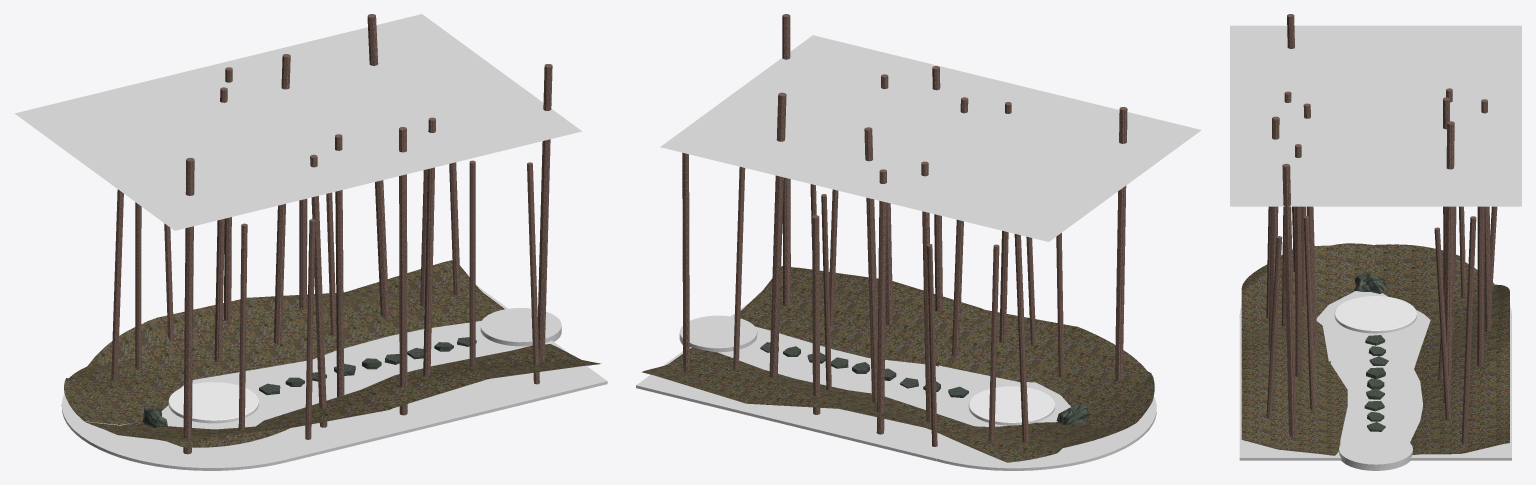
The model's file is forest12_ex.glb.
3 views of the same model, side by side, from view 1: azimuth 30°, elevation 25°; view 2: azimuth 150°, elevation 25°; view 3: azimuth 270°, elevation 25° (orthographic). The views are drawn at different scales.
Parts seen in each view (by area): view 1: Plane, Landscape.1, Cap 2, Cylinder, Cylinder.1 5, Cylinder.1 8, End, Cylinder.1 7, Water, Cylinder.1 16.2, Cylinder.1 2.2, Cylinder.1 6 (+15 smaller); view 2: Plane, Landscape.1, Cap 2, Cylinder, Cylinder.1 22, End, Cylinder.1 5, Cylinder.1 16, Cylinder.1 17, Water, Cylinder.1 18, Cylinder.1 21.1 (+14 smaller); view 3: Plane, Landscape.1, Cap 2, Cylinder, End, Cylinder.1 8, Cylinder.1 22, Cylinder.1 18, Cylinder.1 16.2, Cylinder.1 21.1, Cylinder.1 11.1, Cylinder.1 12 (+13 smaller).
Part boxes in pixels (<box>): Plane: <box>14,14,582,230</box>; Landscape.1: <box>64,260,601,447</box>; Cap 2: <box>62,286,607,467</box>; Cylinder: <box>168,382,258,423</box>; Cylinder.1 5: <box>183,157,194,454</box>; Cylinder.1 8: <box>537,64,552,362</box>; End: <box>480,308,561,346</box>; Cylinder.1 7: <box>399,127,407,415</box>; Water: <box>61,381,607,470</box>; Cylinder.1 16.2: <box>423,117,435,375</box>; Cylinder.1 2.2: <box>310,154,327,427</box>; Cylinder.1 6: <box>335,134,344,397</box>; Plane: <box>660,35,1201,241</box>; Landscape.1: <box>642,266,1154,462</box>; Cap 2: <box>636,301,1156,468</box>; Cylinder: <box>968,386,1054,425</box>; Cylinder.1 22: <box>769,92,786,378</box>; End: <box>679,315,757,352</box>; Cylinder.1 5: <box>1115,107,1127,381</box>; Cylinder.1 16: <box>876,169,886,434</box>; Cylinder.1 17: <box>864,127,877,403</box>; Water: <box>636,385,1156,470</box>; Cylinder.1 18: <box>682,152,689,371</box>; Cylinder.1 21.1: <box>812,215,820,414</box>; Plane: <box>1230,25,1521,206</box>; Landscape.1: <box>1241,243,1509,455</box>; Cap 2: <box>1239,291,1511,457</box>; Cylinder: <box>1334,296,1416,333</box>; End: <box>1339,433,1412,470</box>; Cylinder.1 8: <box>1282,163,1296,437</box>; Cylinder.1 22: <box>1443,121,1454,403</box>; Cylinder.1 18: <box>1461,216,1476,444</box>; Cylinder.1 16.2: <box>1295,144,1301,378</box>; Cylinder.1 21.1: <box>1477,206,1484,365</box>; Cylinder.1 11.1: <box>1434,227,1450,420</box>; Cylinder.1 12: <box>1303,216,1315,411</box>.
Size of the model in its own units: 121 by 79.67 by 71.02.
Materials: 5 (3 with a texture image).
